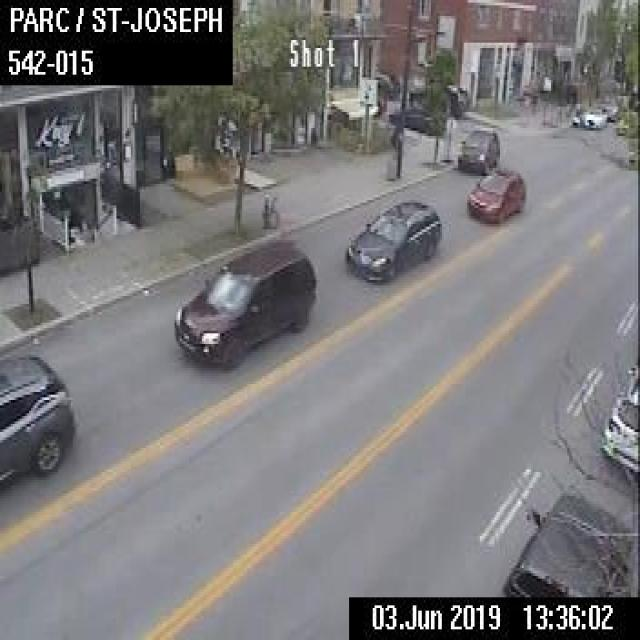vehicle: (171, 235, 316, 368), (496, 490, 631, 594), (0, 349, 73, 483), (344, 195, 442, 282), (596, 360, 638, 472), (466, 166, 524, 222), (386, 88, 445, 135), (456, 125, 499, 172), (444, 81, 467, 118), (374, 71, 400, 93), (583, 104, 607, 126)
